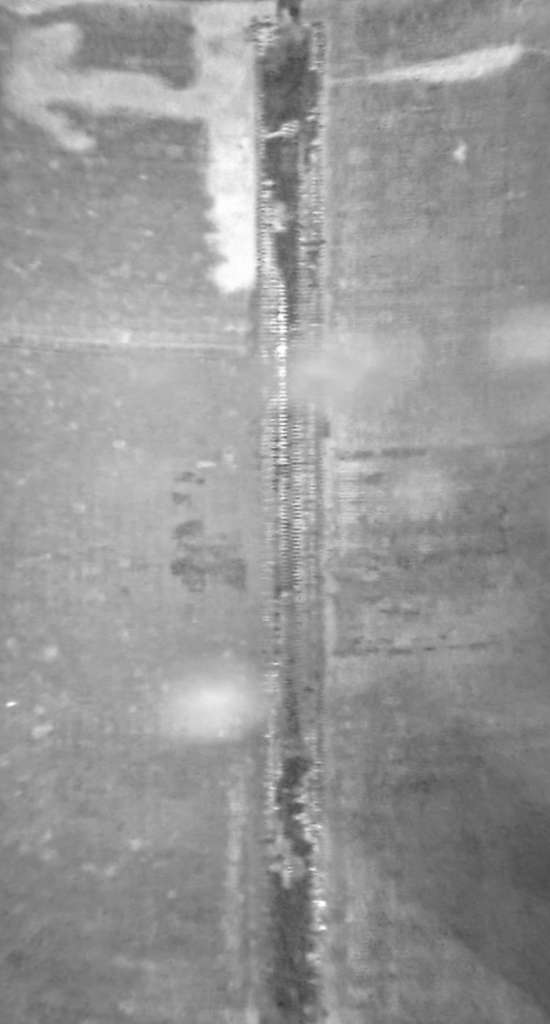splice: (238, 1, 339, 1024)
